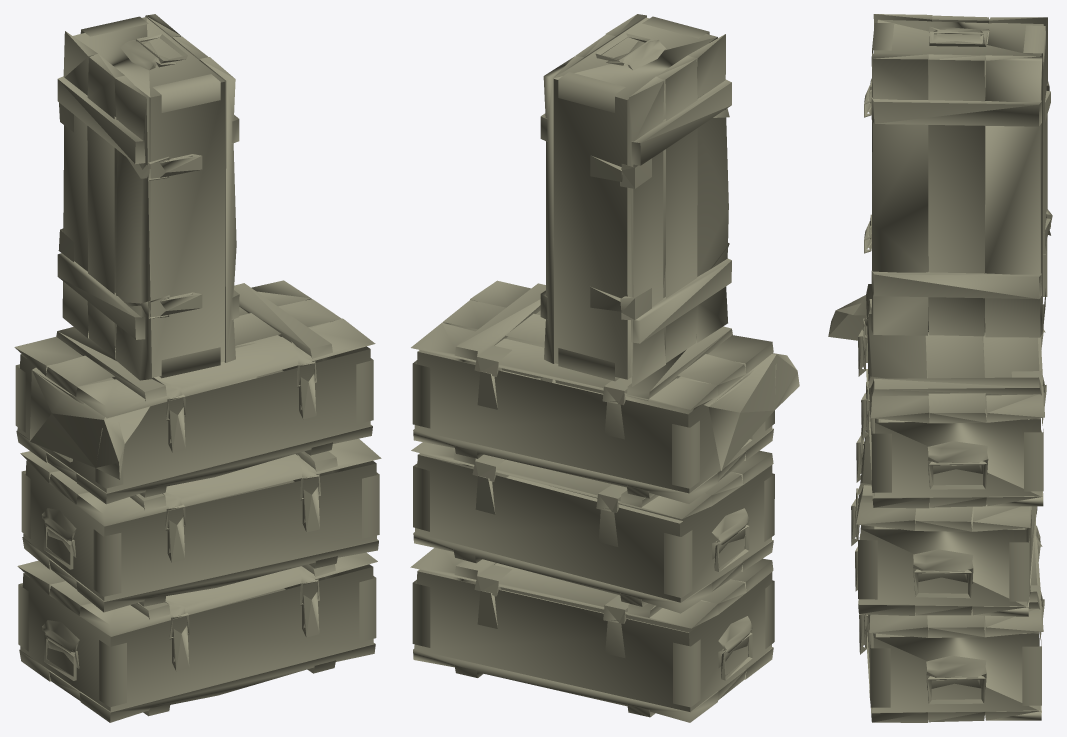
The model's file is Dress_CaseStack_Tall.fbx.
3 renders of one model, left to right at view 1: azimuth 30°, elevation 25°; view 2: azimuth 150°, elevation 25°; view 3: azimuth 270°, elevation 25°, orthographic. The views are drawn at different scales.
Parts seen in each view (by area): view 1: Dress_CaseStack_Tall; view 2: Dress_CaseStack_Tall; view 3: Dress_CaseStack_Tall.
Boxes of the visible parts, left/top/right/bottom form: Dress_CaseStack_Tall: left=14, top=14, right=381, bottom=722; Dress_CaseStack_Tall: left=410, top=14, right=799, bottom=722; Dress_CaseStack_Tall: left=828, top=14, right=1052, bottom=722.
Size of the model in its own units: 77.6 by 158 by 52.83.
